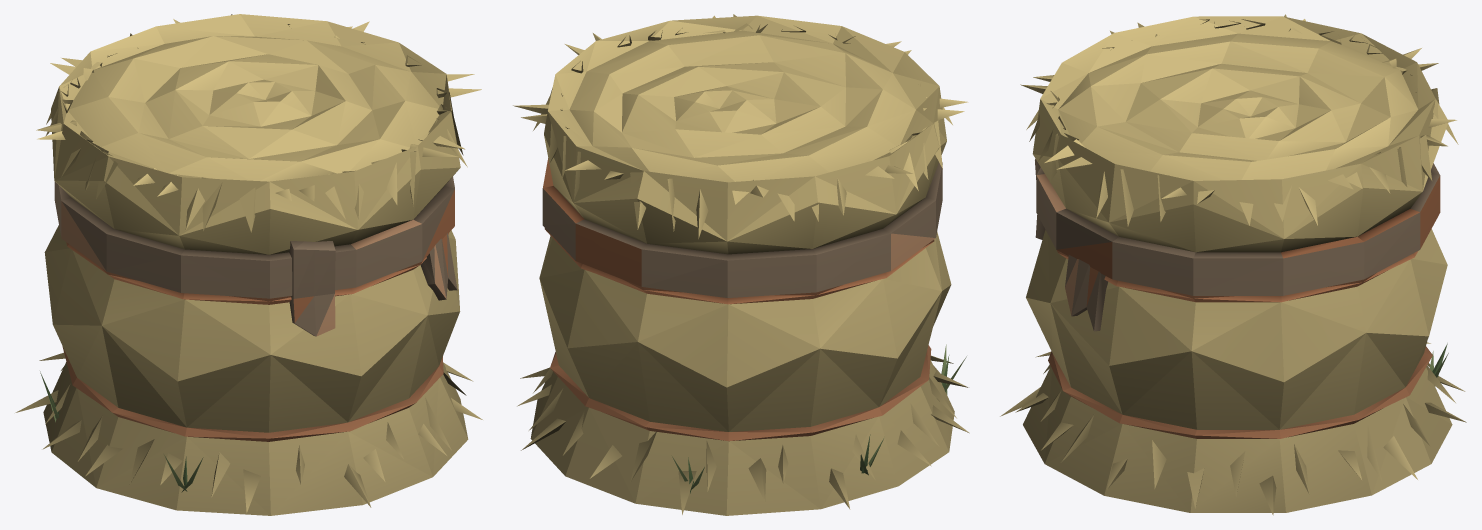
File: bale.glb
3 renders of one model, left to right at view 1: azimuth 30°, elevation 25°; view 2: azimuth 150°, elevation 25°; view 3: azimuth 270°, elevation 25°, orthographic.
Visible parts, largest first — view 1: bale; view 2: bale; view 3: bale.
Part boxes in pixels (bbox=[...]): bale: bbox=[15, 14, 482, 515]; bale: bbox=[513, 14, 969, 515]; bale: bbox=[1000, 14, 1466, 515].
Bounding box in the file's own units: 1.3 × 1 × 1.3.
